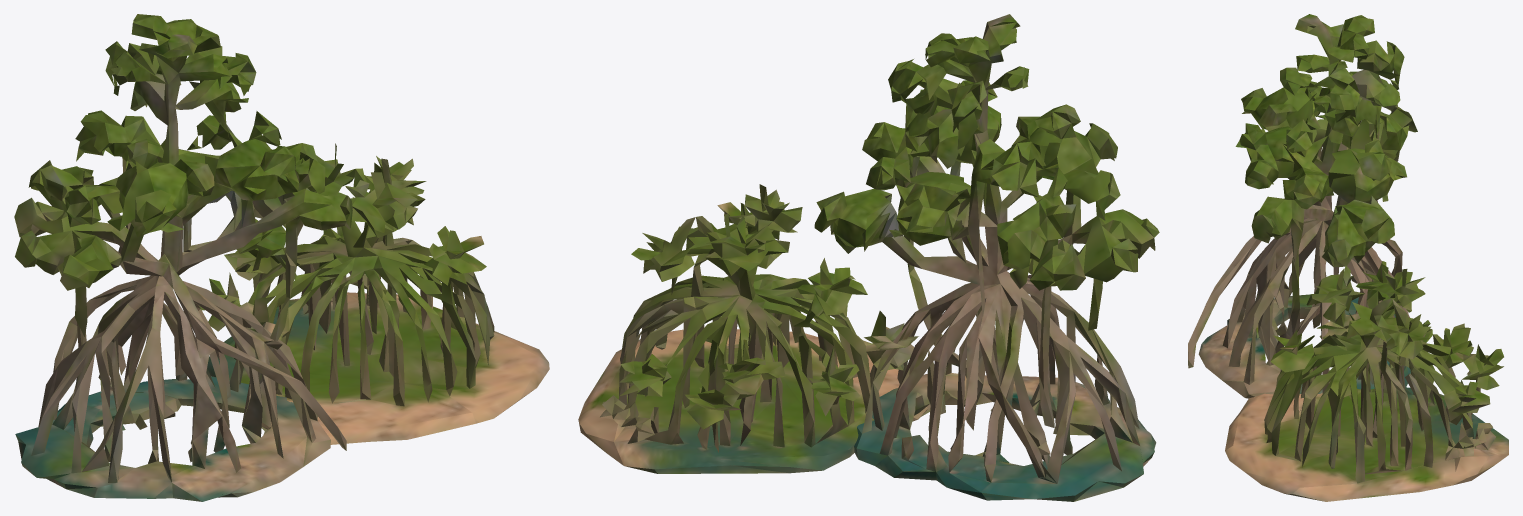
File: shrub_01.glb
3 views of the same model, side by side, from view 1: azimuth 30°, elevation 25°; view 2: azimuth 150°, elevation 25°; view 3: azimuth 270°, elevation 25° (orthographic). The views are drawn at different scales.
Parts seen in each view (by area): view 1: shrub_01; view 2: shrub_01; view 3: shrub_01.
Part boxes in pixels (x1,y1,x2,y2): shrub_01: [14, 14, 549, 501]; shrub_01: [578, 14, 1159, 501]; shrub_01: [1188, 14, 1508, 501].
Bounding box in the file's own units: 3.07 × 2.35 × 2.02.
Materials: 1 (1 with a texture image).
